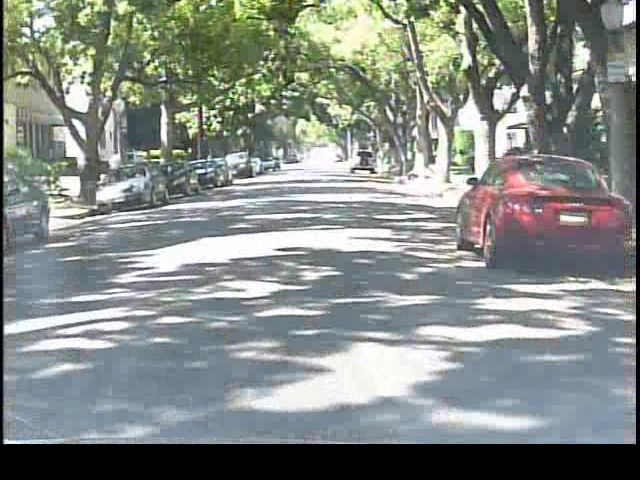person: (108, 147, 131, 198)
